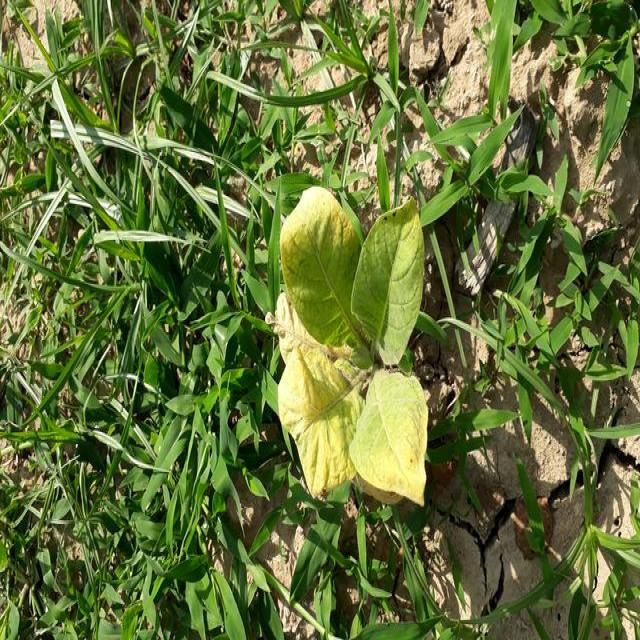crop: (286, 200, 436, 504)
